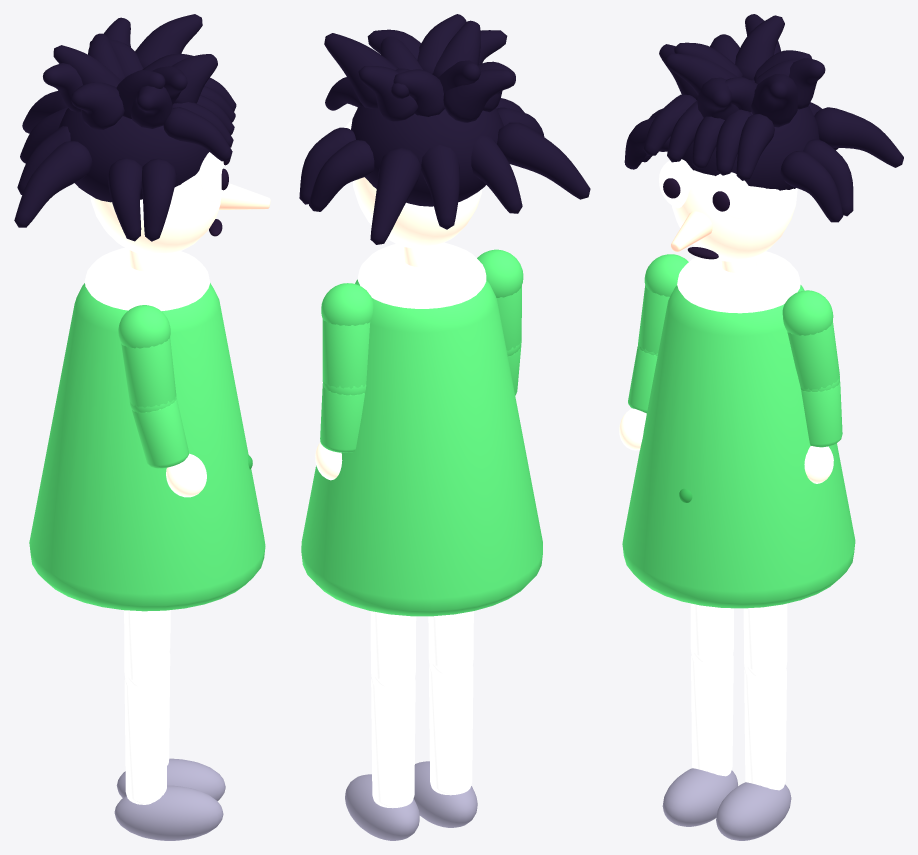
Rendered from laverne.glb.
3 renders of one model, left to right at view 1: azimuth 30°, elevation 25°; view 2: azimuth 150°, elevation 25°; view 3: azimuth 270°, elevation 25°, orthographic. The views are drawn at different scales.
Parts seen in each view (by area): view 1: RL_Kleid.001, RL_HaarKappe.001, RL_Kragen.001, LR_UnterschenkelR.001, RL_Kopf.001, RL_SchuhR.001, LR_OberschenkelR.001, RL_Haar12.001, LR_OberarmR.001, LR_UnterarmR.001, RL_Haar16.001, RL_Haar17.001 (+22 smaller); view 2: RL_Kleid.001, RL_HaarKappe.001, RL_Kragen.001, LR_UnterschenkelR.001, LR_UnterschenkelL.001, RL_Kopf.001, RL_Haar12.001, LR_OberschenkelL.001, RL_Haar15.001, LR_OberarmL.001, RL_SchuhL.001, RL_Haar18.001 (+23 smaller); view 3: RL_Kleid.001, RL_Kopf.001, RL_Kragen.001, LR_UnterschenkelR.001, LR_UnterschenkelL.001, RL_SchuhL.001, RL_HaarKappe.001, RL_SchuhR.001, LR_OberschenkelL.001, RL_Haar15.001, LR_OberarmL.001, RL_Haar19.001 (+26 smaller).
Part boxes in pixels (x1=…): RL_Kleid.001: x1=29, y1=283, x2=265, y2=611; RL_HaarKappe.001: x1=58, y1=108, x2=209, y2=202; RL_Kragen.001: x1=84, y1=247, x2=209, y2=311; LR_UnterschenkelR.001: x1=124, y1=679, x2=167, y2=804; RL_Kopf.001: x1=90, y1=160, x2=222, y2=256; RL_SchuhR.001: x1=114, y1=785, x2=223, y2=840; LR_OberschenkelR.001: x1=124, y1=610, x2=168, y2=682; RL_Haar12.001: x1=14, y1=141, x2=92, y2=227; LR_OberarmR.001: x1=121, y1=337, x2=176, y2=407; LR_UnterarmR.001: x1=132, y1=398, x2=188, y2=468; RL_Haar16.001: x1=107, y1=158, x2=142, y2=241; RL_Haar17.001: x1=141, y1=158, x2=176, y2=241; RL_Kleid.001: x1=301, y1=279, x2=542, y2=616; RL_HaarKappe.001: x1=351, y1=105, x2=503, y2=206; RL_Kragen.001: x1=358, y1=242, x2=486, y2=308; LR_UnterschenkelR.001: x1=429, y1=665, x2=473, y2=795; LR_UnterschenkelL.001: x1=371, y1=678, x2=415, y2=808; RL_Kopf.001: x1=352, y1=177, x2=482, y2=248; RL_Haar12.001: x1=497, y1=122, x2=590, y2=199; LR_OberschenkelL.001: x1=370, y1=611, x2=416, y2=682; RL_Haar15.001: x1=370, y1=148, x2=421, y2=244; LR_OberarmL.001: x1=322, y1=319, x2=370, y2=388; RL_SchuhL.001: x1=345, y1=774, x2=419, y2=840; RL_Haar18.001: x1=308, y1=140, x2=374, y2=211; RL_Kleid.001: x1=622, y1=285, x2=855, y2=608; RL_Kopf.001: x1=671, y1=170, x2=797, y2=261; RL_Kragen.001: x1=677, y1=251, x2=800, y2=313; LR_UnterschenkelR.001: x1=691, y1=655, x2=733, y2=776; LR_UnterschenkelL.001: x1=744, y1=668, x2=786, y2=790; RL_SchuhL.001: x1=716, y1=782, x2=791, y2=840; RL_HaarKappe.001: x1=670, y1=80, x2=819, y2=190; RL_SchuhR.001: x1=662, y1=768, x2=737, y2=826; LR_OberschenkelL.001: x1=743, y1=603, x2=787, y2=672; RL_Haar15.001: x1=814, y1=107, x2=903, y2=167; LR_OberarmL.001: x1=787, y1=320, x2=839, y2=390; RL_Haar19.001: x1=780, y1=151, x2=843, y2=222.
Bounding box in the file's own units: 0.6338 × 1.89 × 0.6347.
